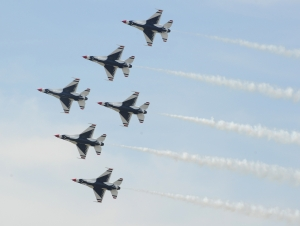flight: (35, 77, 91, 114), (120, 8, 174, 46), (96, 91, 151, 128), (82, 45, 136, 82), (53, 123, 107, 159), (70, 167, 124, 203)
